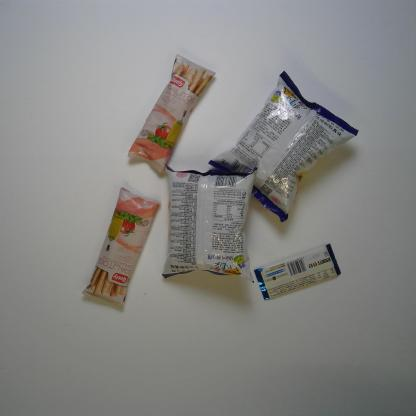Chocolate: (252, 241, 342, 302)
Dessert: (126, 53, 220, 176), (79, 185, 162, 310)
Puffed Food: (206, 68, 360, 226), (158, 162, 258, 285)
